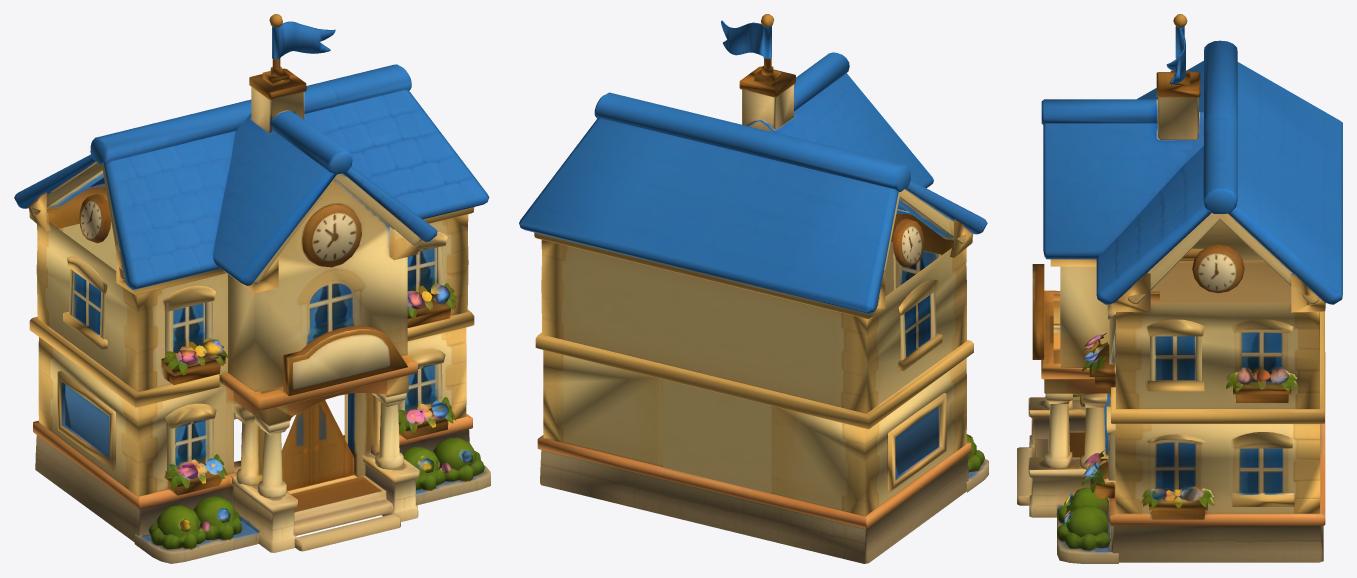
3 renders of one model, left to right at view 1: azimuth 30°, elevation 25°; view 2: azimuth 150°, elevation 25°; view 3: azimuth 270°, elevation 25°, orthographic. The views are drawn at different scales.
Visible parts, largest first — view 1: shop-community; view 2: shop-community; view 3: shop-community.
Boxes of the visible parts, x1,y1,x2,y2 form: shop-community: (14, 14, 490, 563); shop-community: (519, 14, 988, 563); shop-community: (1017, 14, 1342, 563).
Size of the model in its own units: 8 by 9.97 by 6.27.
Materials: 1 (1 with a texture image).
